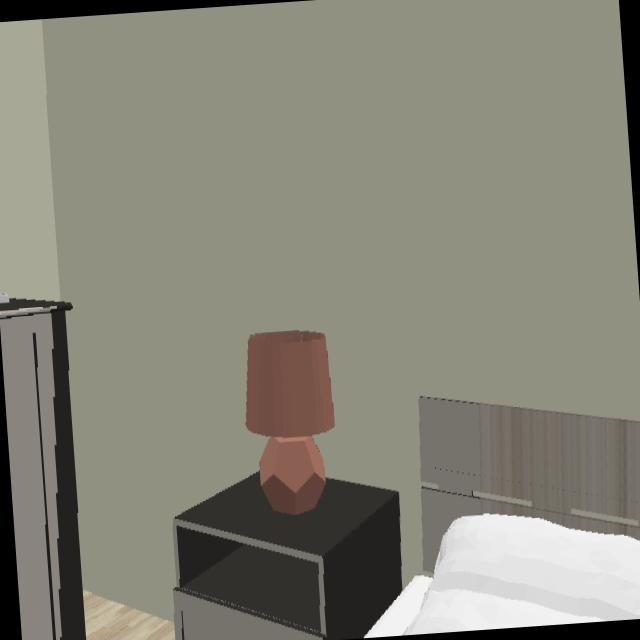bed: (368, 397, 640, 635)
cabinet: (0, 295, 85, 640)
lamp: (246, 330, 333, 513)
nighttable: (174, 474, 402, 640)
